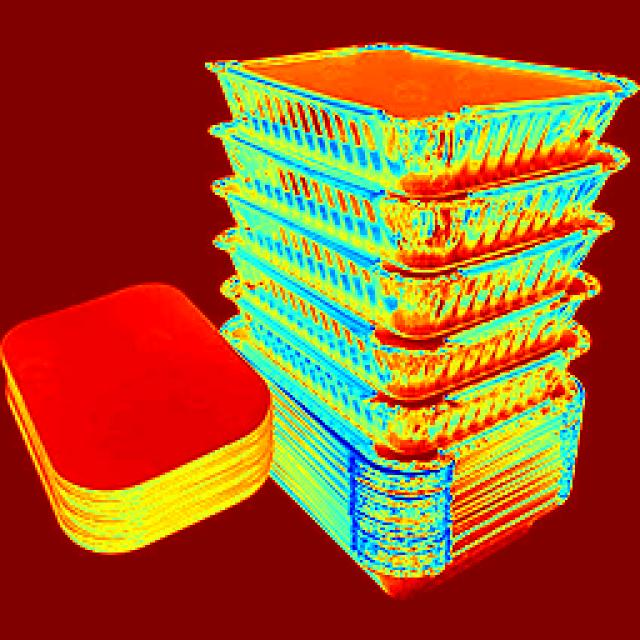Aluminium Food Cans: (5, 288, 254, 540), (215, 12, 618, 151), (214, 105, 596, 234), (234, 309, 565, 452), (227, 252, 542, 380), (221, 190, 571, 300)
